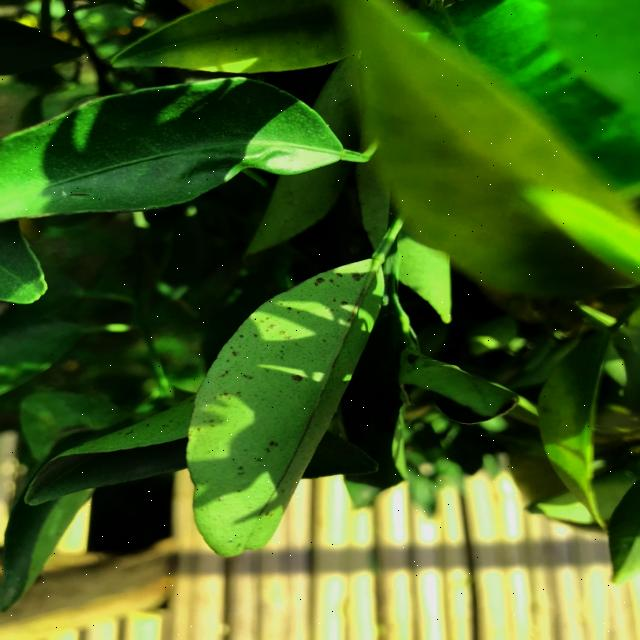melanose: (144, 253, 395, 557)
